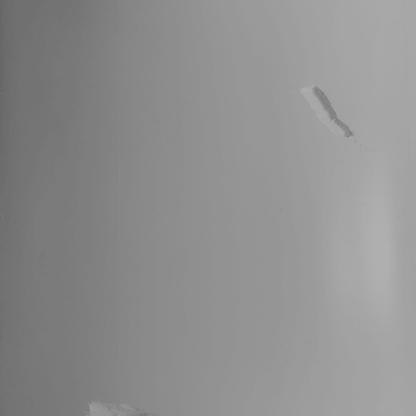sunshang: (303, 83, 354, 139), (87, 401, 147, 416)
